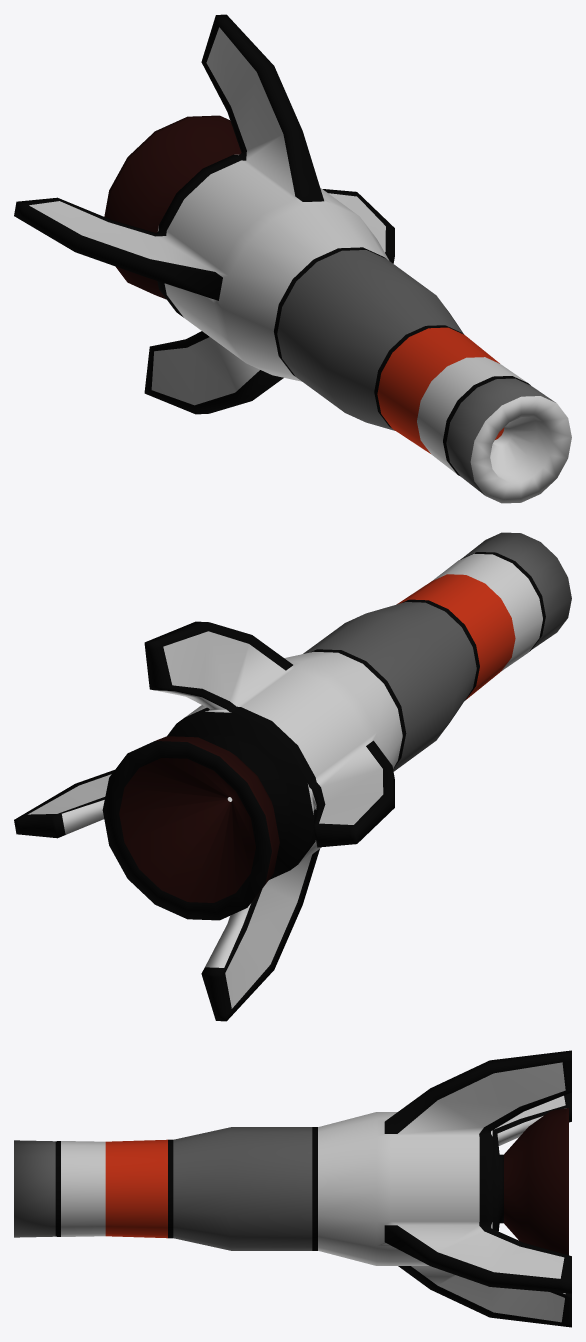
File: rocket.fbx
3 renders of one model, top to bottom at view 1: azimuth 30°, elevation 25°; view 2: azimuth 150°, elevation 25°; view 3: azimuth 270°, elevation 25°, orthographic. The views are drawn at different scales.
Parts seen in each view (by area): view 1: rocket; view 2: rocket; view 3: rocket.
Boxes of the visible parts, left/top/right/bottom form: rocket: left=14, top=14, right=571, bottom=503; rocket: left=14, top=532, right=571, bottom=1021; rocket: left=14, top=1050, right=571, bottom=1327.
Bounding box in the file's own units: 426 × 431 × 723.
